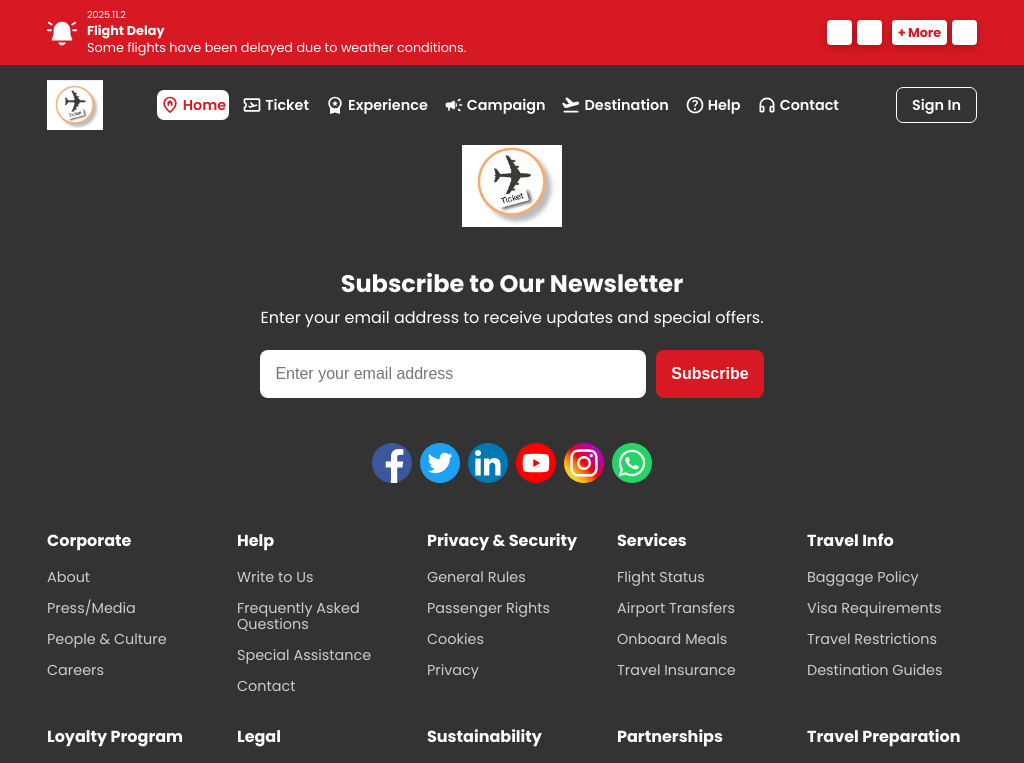
Test case: Newsletter Component › Should show an error message if the email is invalid
(page scrolled)
Type "invalid-email" into the field with placeholder "Enter your email address" at (453, 374), box [260,350,646,398]
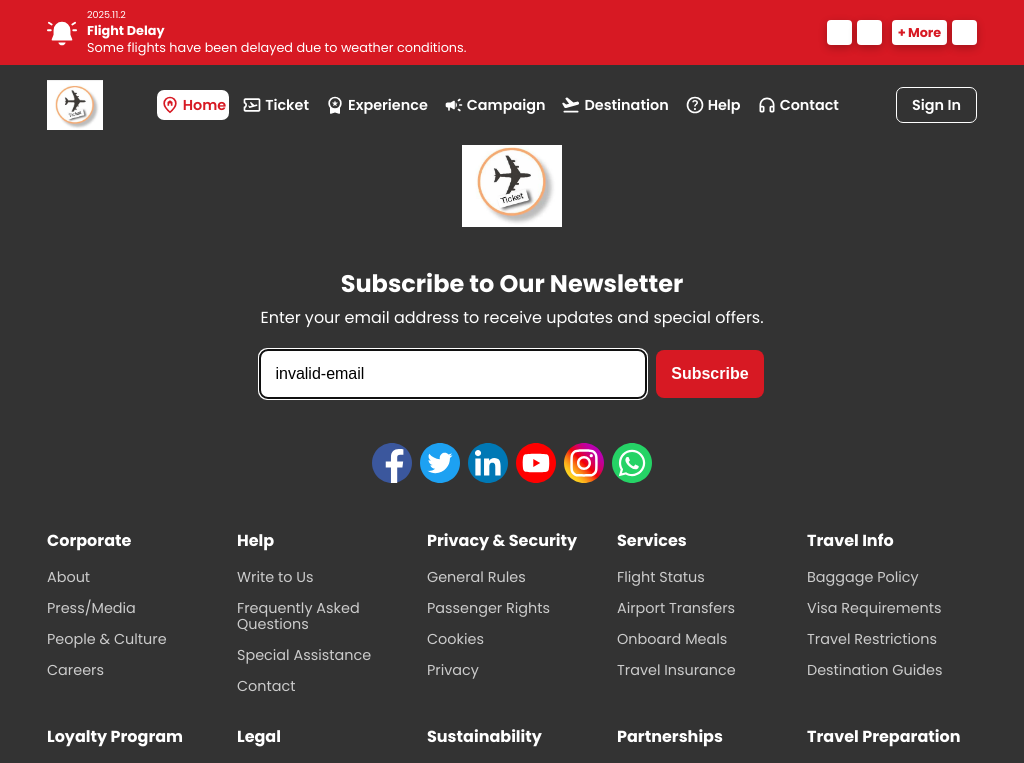
Submit the form, box [260,350,763,398]
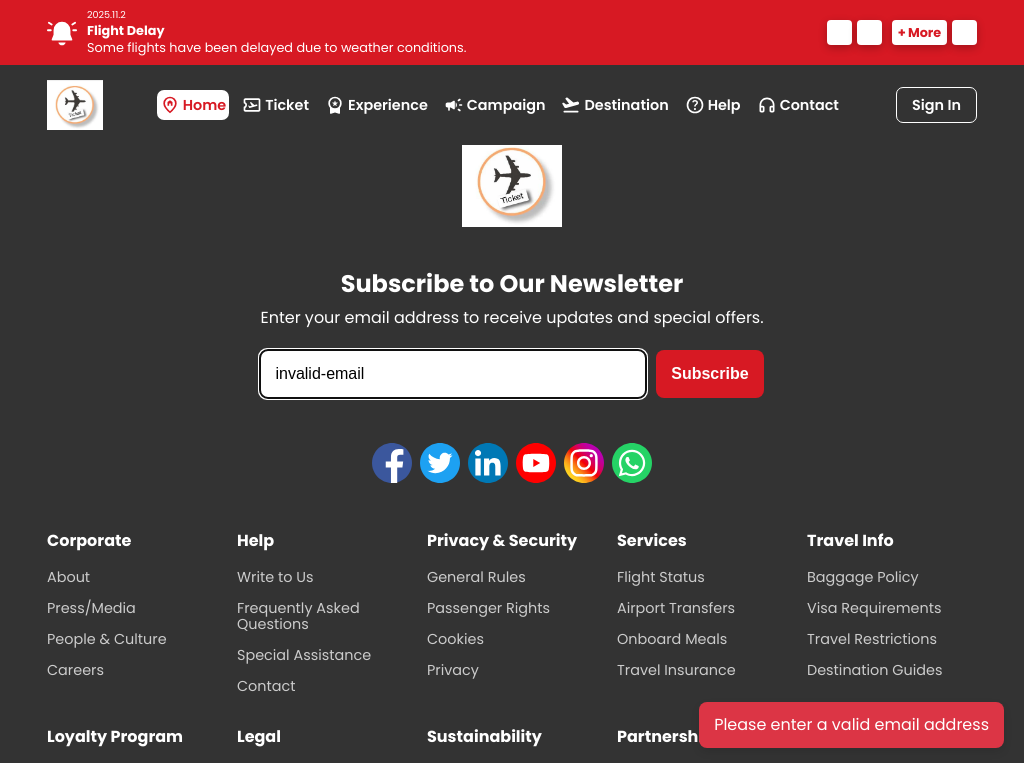
expect the text "Please enter a valid email address" is shown: met, box [714,717,989,733]
